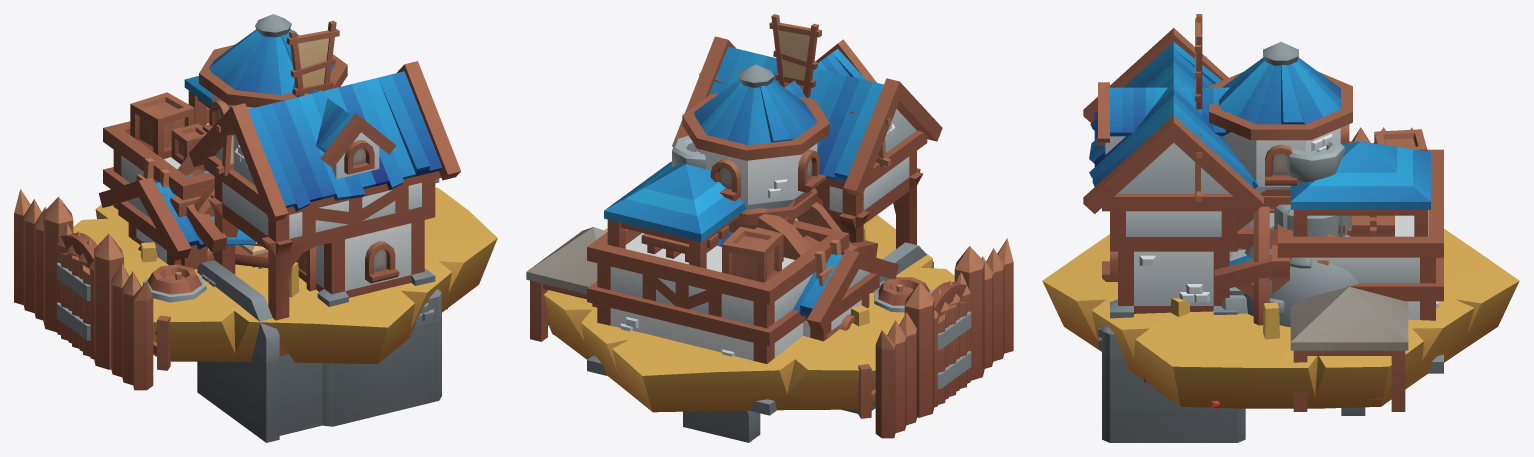
File: kit_hex.glb
3 views of the same model, side by side, from view 1: azimuth 30°, elevation 25°; view 2: azimuth 150°, elevation 25°; view 3: azimuth 270°, elevation 25° (orthographic). The views are drawn at different scales.
Parts seen in each view (by area): view 1: building_watermill_blue, building_grain, building_market_blue, fence_wood_straight, building_windmill_top_blue, fence_wood_straight_gate, building_blacksmith_blue, building_windmill_top_fan_blue, fence_wood_straight_door, building_watermill_wheel_blue, building_windmill_blue; view 2: building_market_blue, building_grain, building_watermill_blue, building_windmill_top_blue, fence_wood_straight, fence_wood_straight_gate, building_blacksmith_blue, building_windmill_top_fan_blue, fence_wood_straight_door, building_watermill_wheel_blue; view 3: building_watermill_blue, building_grain, building_market_blue, building_windmill_top_blue, building_blacksmith_blue, building_watermill_wheel_blue, building_windmill_top_fan_blue, building_well_blue.
Boxes of the visible parts, box(x1,y1,x2,y2) form: building_watermill_blue: box(188, 61, 460, 442); building_grain: box(73, 187, 497, 363); building_market_blue: box(103, 76, 447, 370); fence_wood_straight: box(14, 189, 153, 390); building_windmill_top_blue: box(199, 14, 347, 132); fence_wood_straight_gate: box(43, 197, 153, 389); building_blacksmith_blue: box(99, 171, 261, 268); building_windmill_top_fan_blue: box(216, 20, 339, 175); fence_wood_straight_door: box(56, 253, 90, 356); building_watermill_wheel_blue: box(177, 155, 214, 269); building_windmill_blue: box(213, 242, 268, 267); building_market_blue: box(526, 161, 932, 418); building_grain: box(543, 215, 954, 412); building_watermill_blue: box(672, 36, 942, 442); building_windmill_top_blue: box(682, 64, 829, 225); fence_wood_straight: box(881, 238, 1013, 438); fence_wood_straight_gate: box(875, 246, 1005, 437); building_blacksmith_blue: box(672, 135, 898, 341); building_windmill_top_fan_blue: box(699, 14, 890, 167); fence_wood_straight_door: box(937, 301, 971, 404); building_watermill_wheel_blue: box(728, 202, 851, 259); building_watermill_blue: box(1083, 28, 1365, 442); building_grain: box(1042, 229, 1519, 408); building_market_blue: box(1144, 129, 1443, 411); building_windmill_top_blue: box(1209, 42, 1356, 208); building_blacksmith_blue: box(1221, 137, 1358, 327); building_watermill_wheel_blue: box(1253, 206, 1333, 325); building_windmill_top_fan_blue: box(1195, 14, 1202, 201); building_well_blue: box(1237, 189, 1290, 250).
Size of the model in its own units: 2.01 by 1.81 by 2.09.
Materials: 1 (1 with a texture image).
